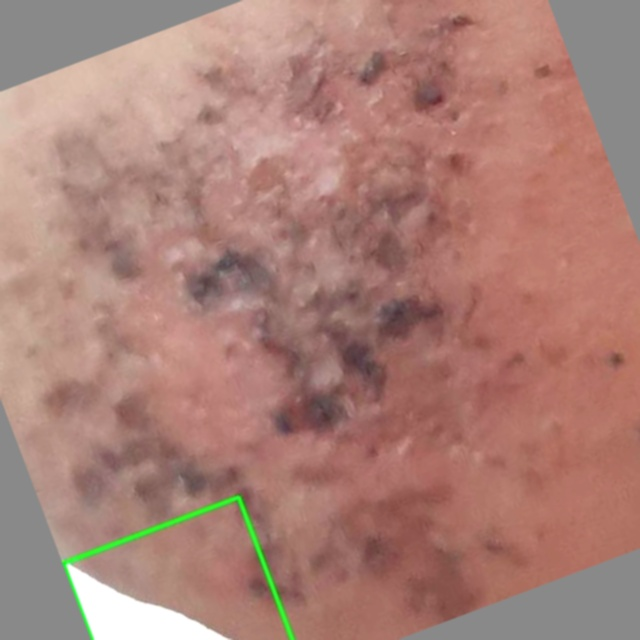Contact Dermatitis: (63, 497, 292, 639)
